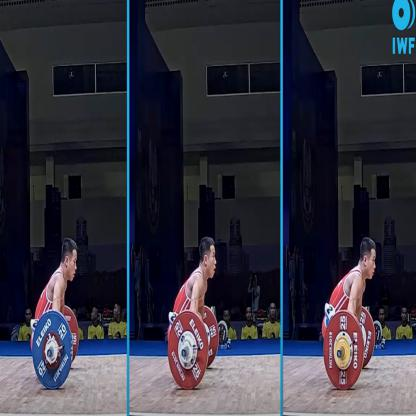Barbell: (26, 305, 78, 394), (162, 304, 214, 392), (318, 304, 369, 392)
